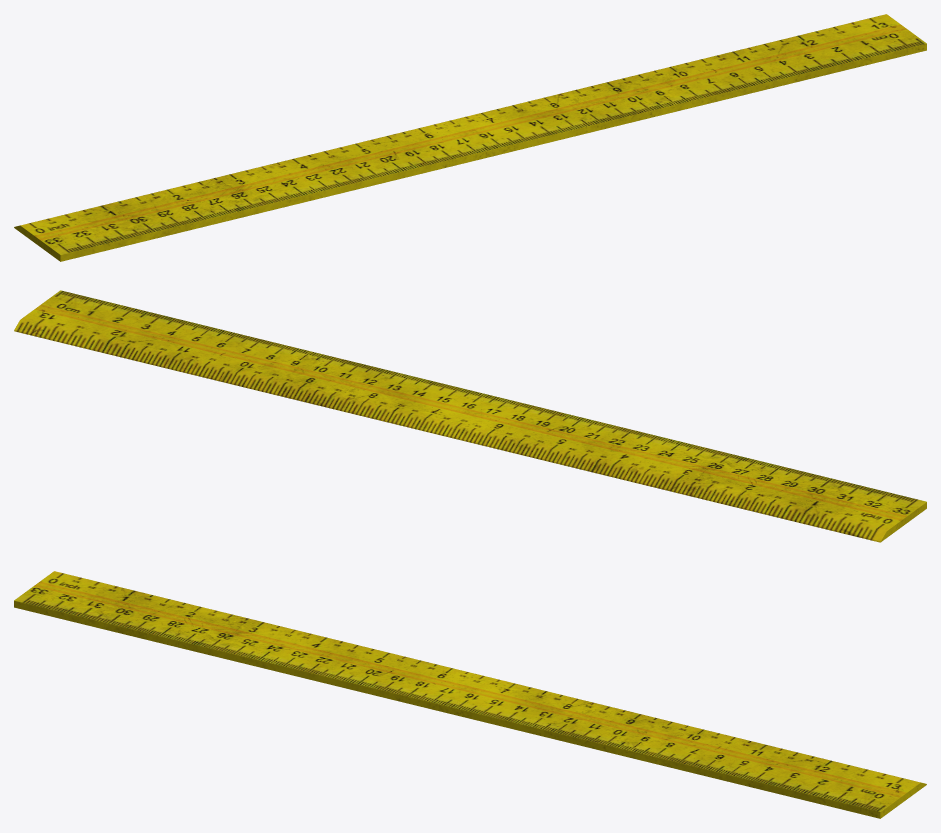
File: RULER.fbx
3 views of the same model, one above another, from view 1: azimuth 30°, elevation 25°; view 2: azimuth 150°, elevation 25°; view 3: azimuth 330°, elevation 25° (orthographic).
Visible parts, largest first — view 1: IMS_Ruler_VR; view 2: IMS_Ruler_VR; view 3: IMS_Ruler_VR.
Part boxes in pixels (bbox=[...]): IMS_Ruler_VR: bbox=[14, 14, 926, 261]; IMS_Ruler_VR: bbox=[14, 290, 926, 542]; IMS_Ruler_VR: bbox=[14, 571, 926, 818].
Bounding box in the file's own units: 30472 × 234 × 2837.
1 material, 1 textured.
